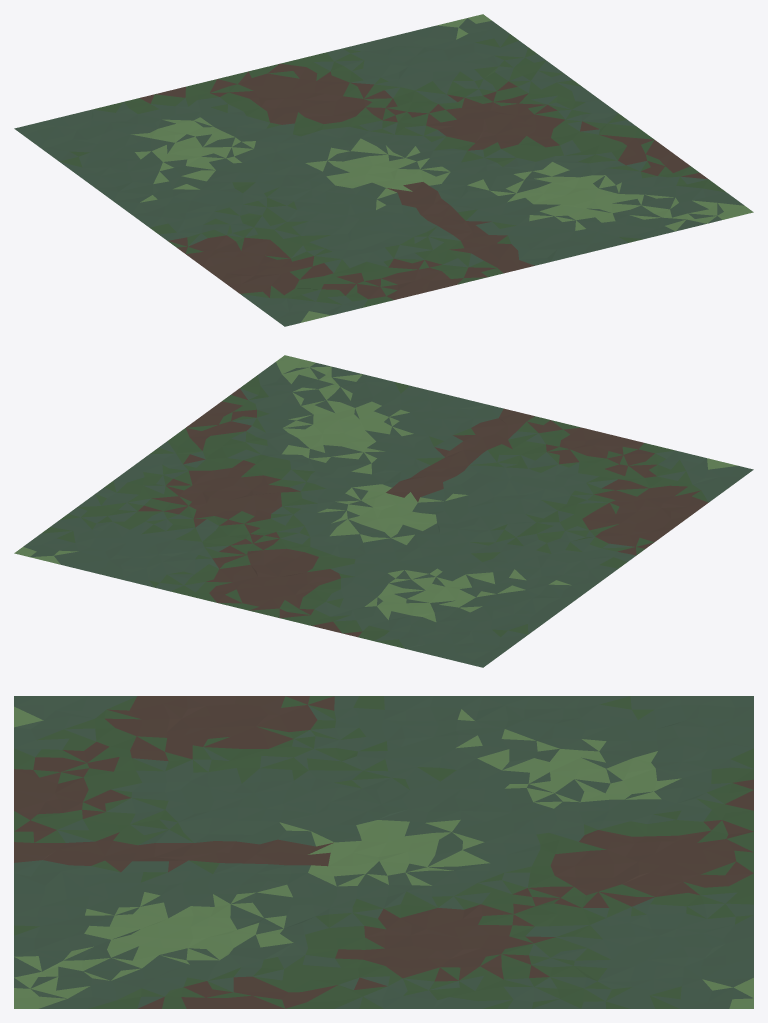
The model's file is lobby_ground.glb.
3 views of the same model, one above another, from view 1: azimuth 30°, elevation 25°; view 2: azimuth 150°, elevation 25°; view 3: azimuth 270°, elevation 25° (orthographic). The views are drawn at different scales.
Visible parts, largest first — view 1: Ground; view 2: Ground; view 3: Ground.
Part boxes in pixels (x1,y1,x2,y2): Ground: [14, 14, 753, 326]; Ground: [14, 355, 753, 667]; Ground: [14, 696, 753, 1008].
Bounding box in the file's own units: 120 × 0.3 × 120.
1 material, 1 textured.
